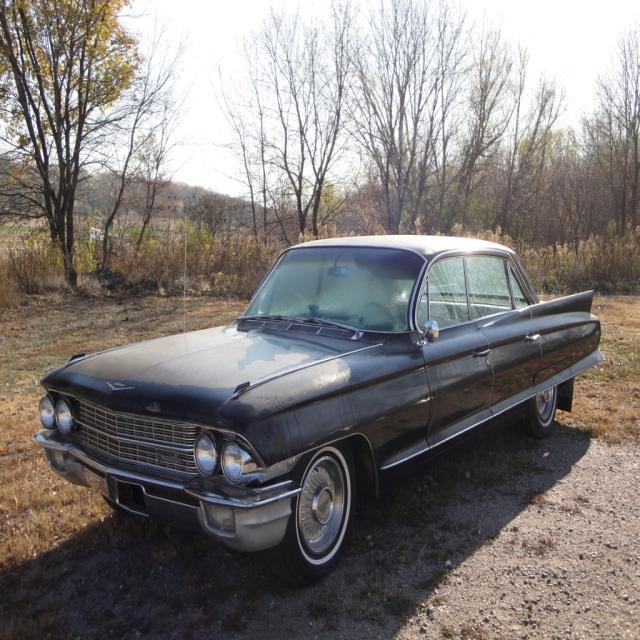car: (42, 237, 606, 571)
